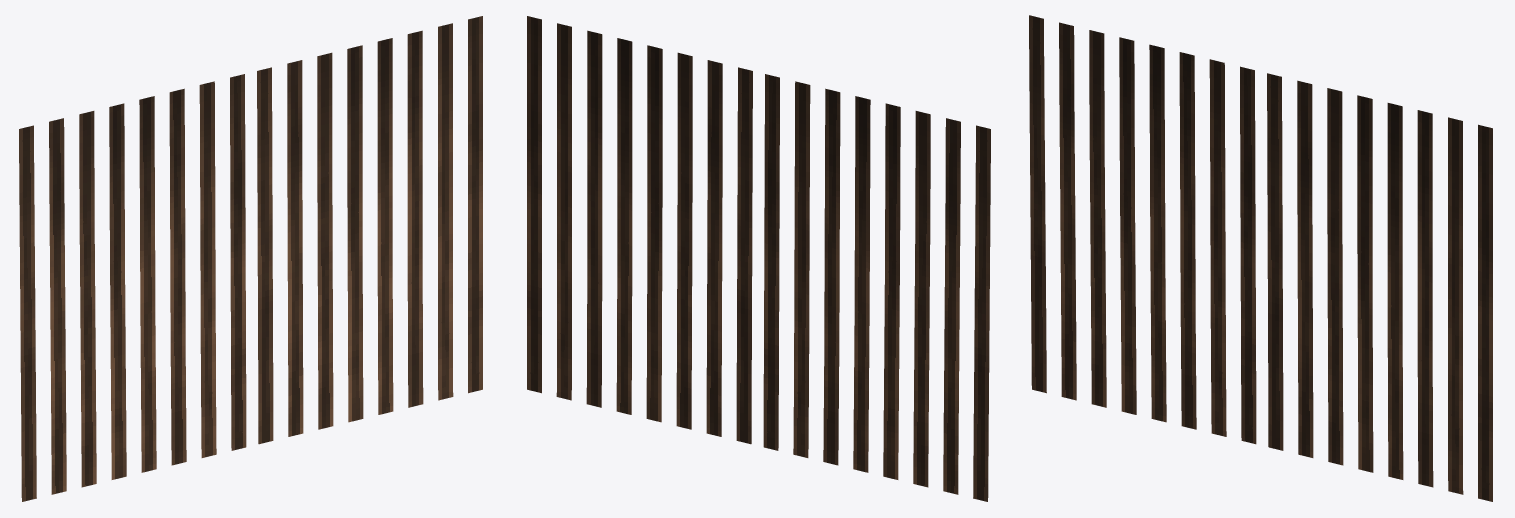
File: house_window_b_2x1-5.glb
3 renders of one model, left to right at view 1: azimuth 30°, elevation 25°; view 2: azimuth 150°, elevation 25°; view 3: azimuth 330°, elevation 25°, orthographic.
Visible parts, largest first — view 1: house_window_b_2x1-5; view 2: house_window_b_2x1-5; view 3: house_window_b_2x1-5.
Part boxes in pixels (left/top/right/bottom): house_window_b_2x1-5: left=19, top=16, right=482, bottom=501; house_window_b_2x1-5: left=527, top=16, right=990, bottom=501; house_window_b_2x1-5: left=1029, top=15, right=1492, bottom=501.
Bounding box in the file's own units: 2 × 1.5 × 0.
Materials: 1 (1 with a texture image).
